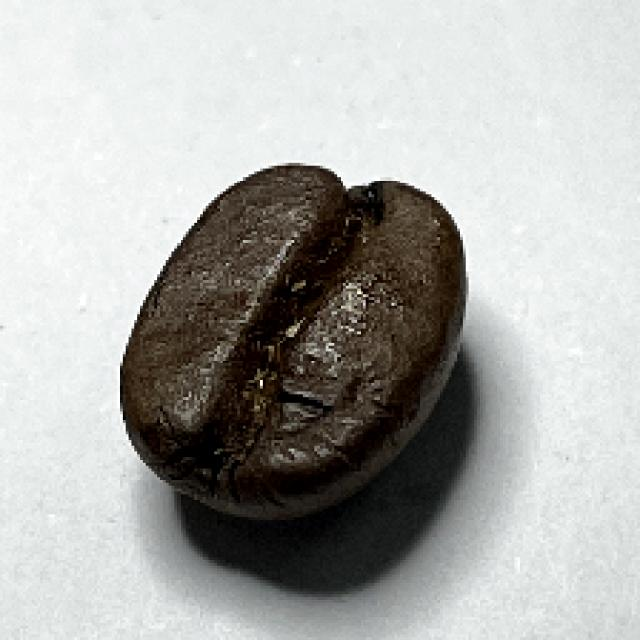bean: (119, 162, 467, 524)
